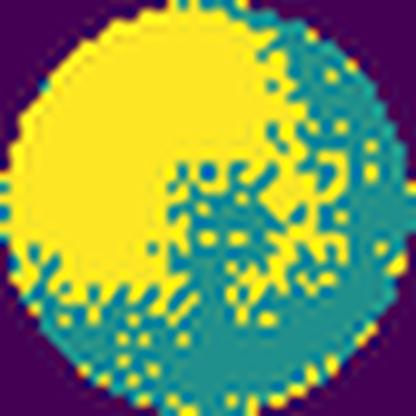Donut: (0, 0, 353, 327)
